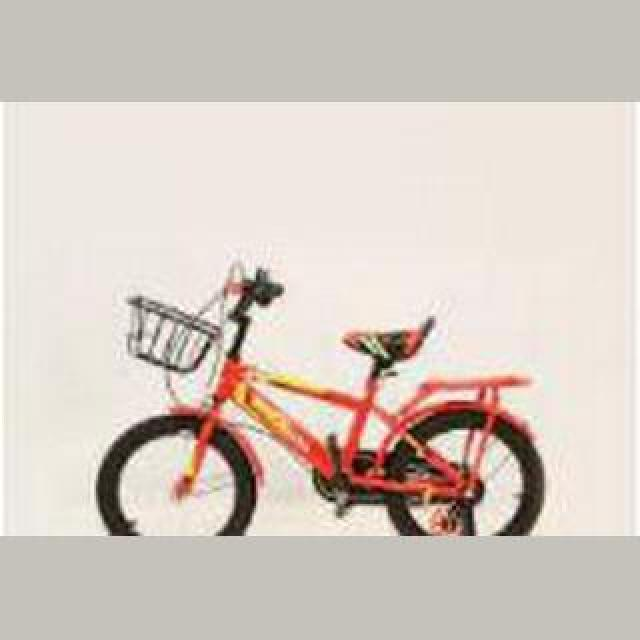Person: (96, 262, 548, 536)
